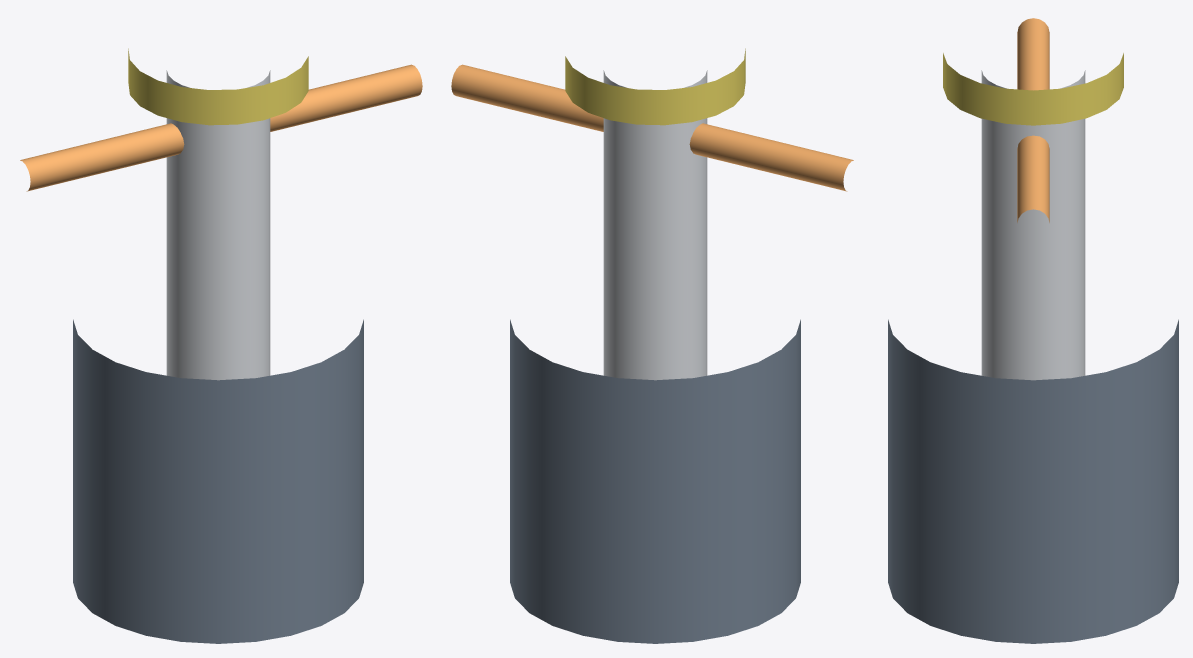
The model's file is power_screws_screw_jack.glb.
The picture shows the model from 3 angles, left to right: view 1: azimuth 30°, elevation 25°; view 2: azimuth 150°, elevation 25°; view 3: azimuth 270°, elevation 25°; orthographic projection.
Parts seen in each view (by area): view 1: CastIronScrewJackBody, SquareThreadedSpindleShaft, TommyBarLeverHandle, SwivelLoadBearingCup; view 2: CastIronScrewJackBody, SquareThreadedSpindleShaft, TommyBarLeverHandle, SwivelLoadBearingCup; view 3: CastIronScrewJackBody, SquareThreadedSpindleShaft, SwivelLoadBearingCup, TommyBarLeverHandle.
Boxes of the visible parts, x1,y1,x2,y2 form: CastIronScrewJackBody: [73, 319, 363, 643]; SquareThreadedSpindleShaft: [166, 70, 270, 380]; TommyBarLeverHandle: [20, 64, 422, 191]; SwivelLoadBearingCup: [128, 48, 308, 125]; CastIronScrewJackBody: [510, 319, 800, 643]; SquareThreadedSpindleShaft: [603, 70, 707, 380]; TommyBarLeverHandle: [451, 64, 853, 191]; SwivelLoadBearingCup: [565, 48, 745, 125]; CastIronScrewJackBody: [888, 319, 1178, 643]; SquareThreadedSpindleShaft: [981, 70, 1085, 380]; SwivelLoadBearingCup: [943, 53, 1123, 125]; TommyBarLeverHandle: [1017, 18, 1049, 222].
Bounding box in the file's own units: 1.4 × 1.81 × 0.9.
